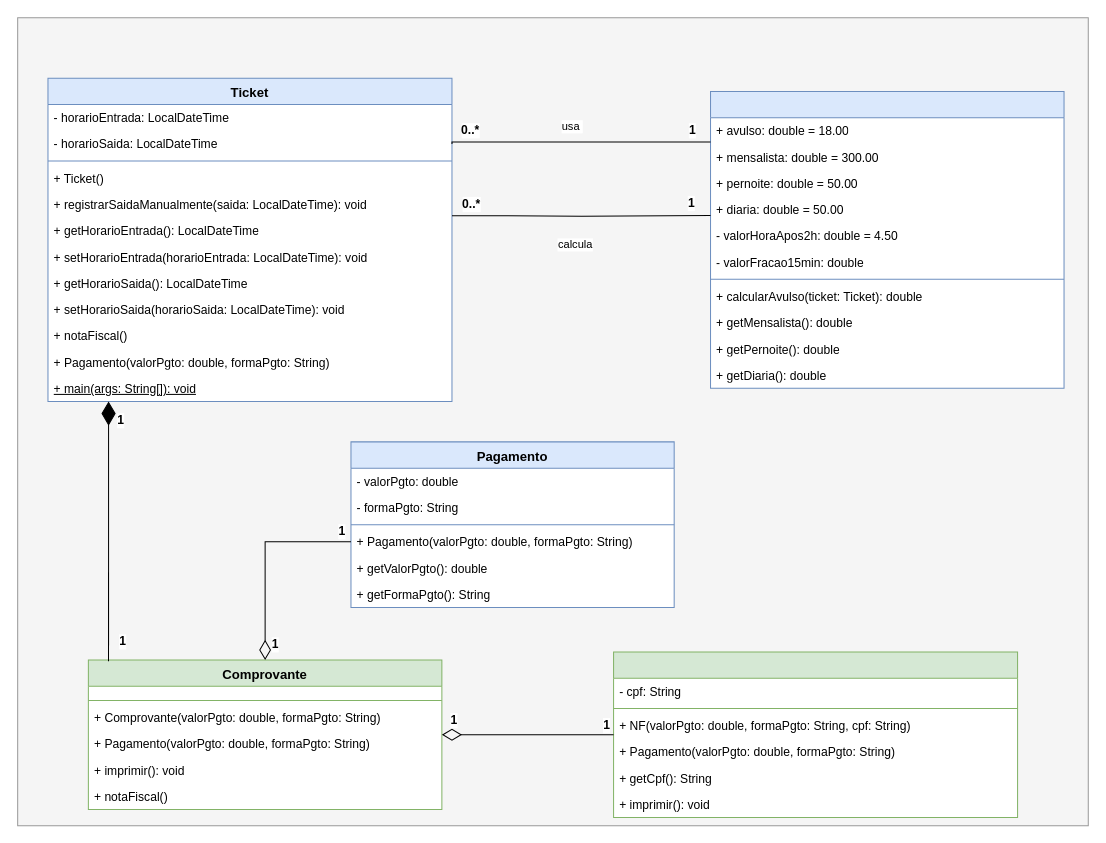
This 1106x843 diagram has some shape labels left out. The box of each missing label's shape, as (x1, y1, x2, y2) in pixels:
NF: (613, 651, 1018, 818)
Tarifa: (710, 90, 1064, 388)
